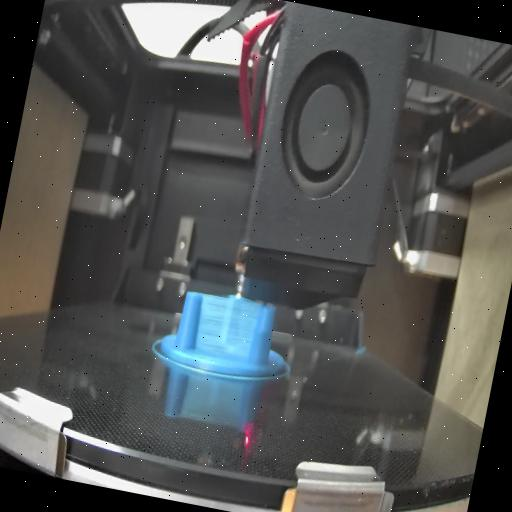stringing: (194, 293, 259, 356)
